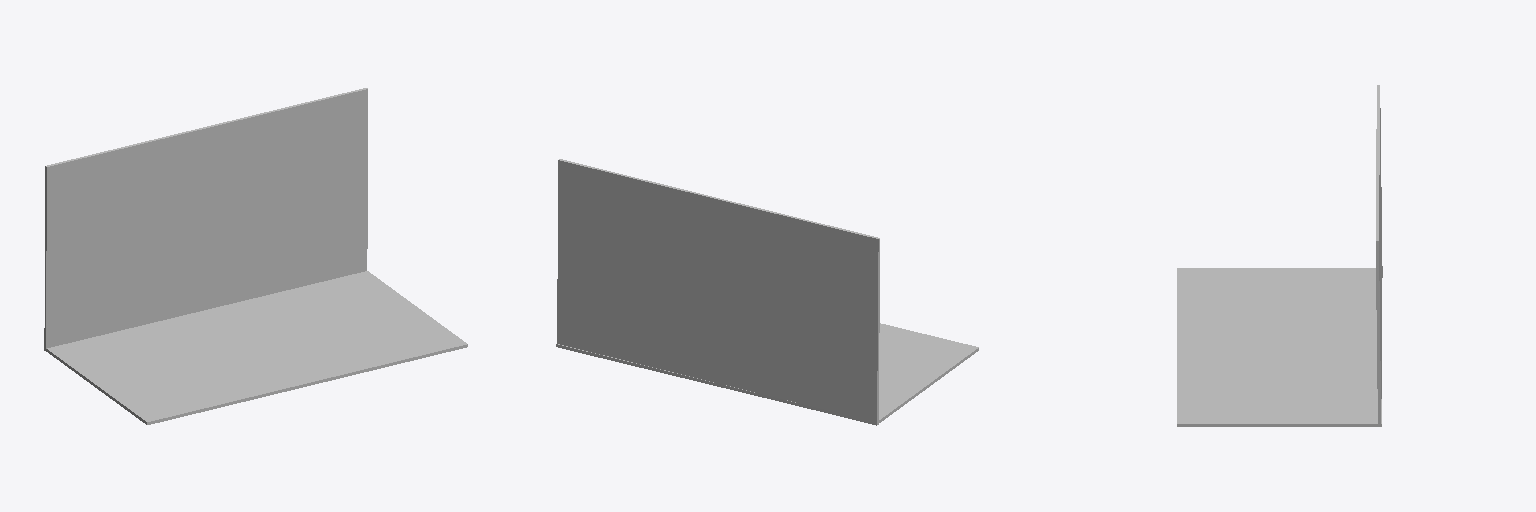
File: backdrop.obj
3 views of the same model, side by side, from view 1: azimuth 30°, elevation 25°; view 2: azimuth 150°, elevation 25°; view 3: azimuth 270°, elevation 25° (orthographic).
Visible parts, largest first — view 1: pCube2, pCube1; view 2: pCube2, pCube1; view 3: pCube1, pCube2.
Part boxes in pixels (bbox=[...]): pCube2: bbox=[44, 88, 367, 350]; pCube1: bbox=[46, 271, 467, 424]; pCube2: bbox=[557, 159, 879, 425]; pCube1: bbox=[556, 323, 978, 422]; pCube1: bbox=[1177, 268, 1381, 426]; pCube2: bbox=[1376, 85, 1382, 423].
Size of the model in its own units: 36.03 by 19.94 by 19.91.